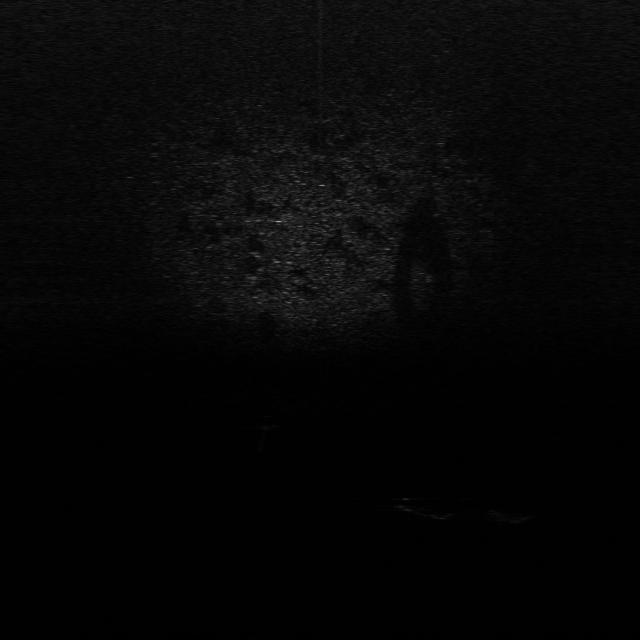ball: (254, 415, 278, 431)
metal bucket: (490, 505, 540, 526)
tyre: (394, 492, 458, 522)
